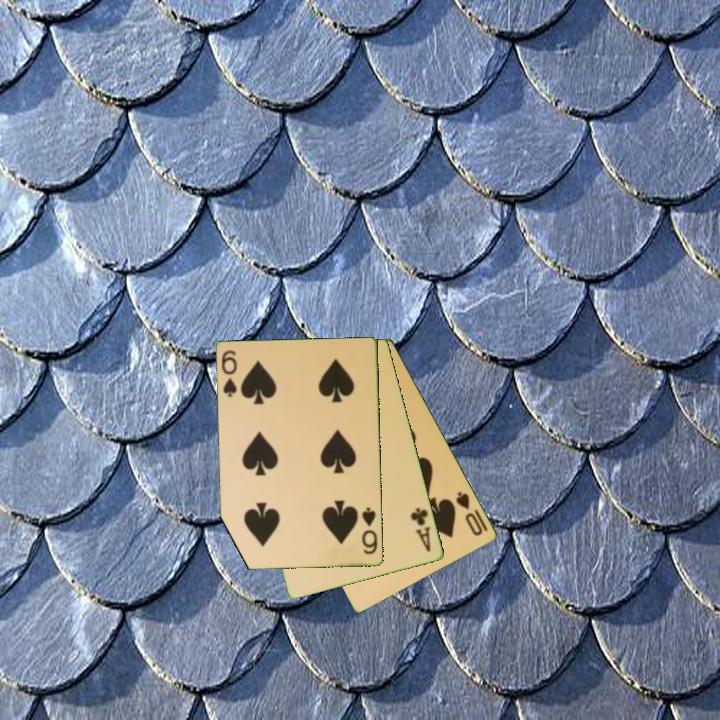10s: (453, 488, 486, 539)
6s: (359, 504, 381, 557), (218, 347, 240, 400)
Ac: (407, 504, 434, 555)
